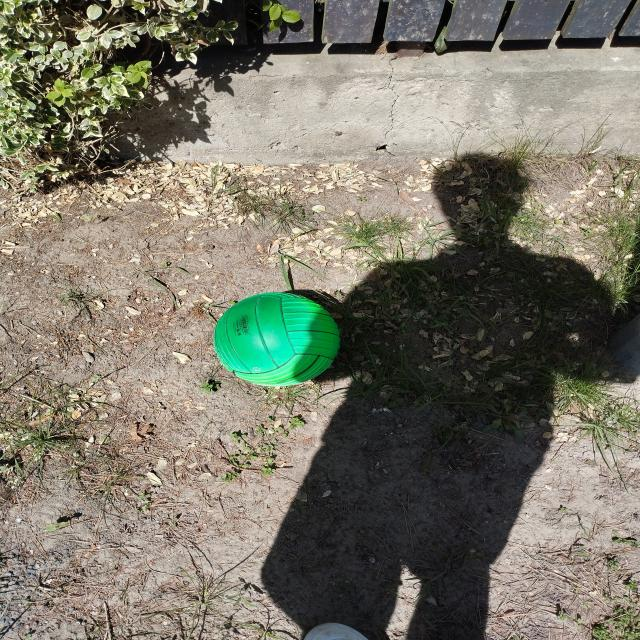zielona: (214, 293, 342, 385)
